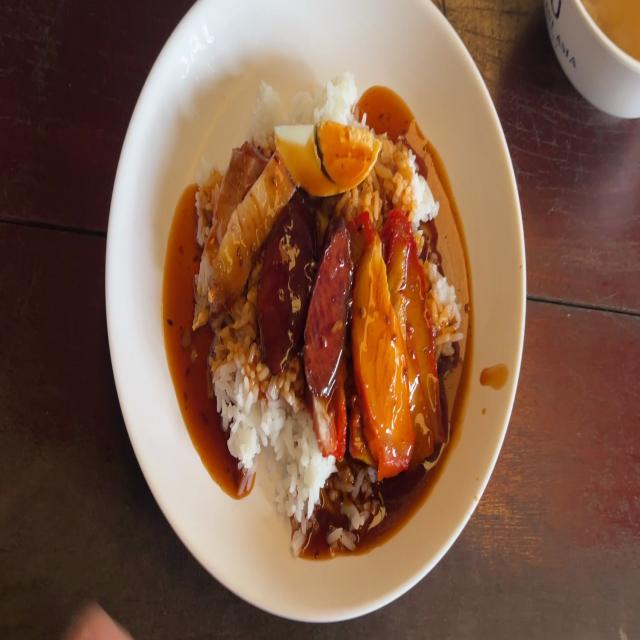01boiled_egg: (274, 118, 376, 196)
01chainese_sausage: (262, 222, 352, 374)
01crispy_pork: (192, 150, 291, 310)
01red_pork: (349, 230, 438, 452)
01red_pork_and_crispy_pork: (196, 78, 460, 554)
01rice: (216, 319, 268, 474), (274, 393, 318, 514)
